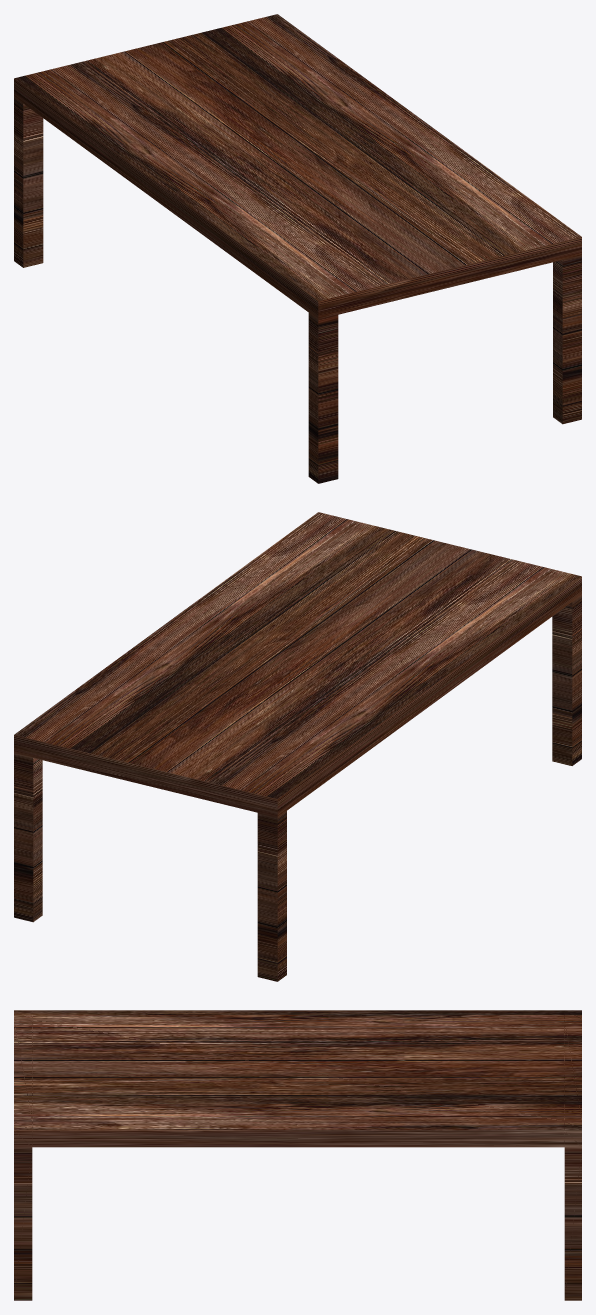
The model's file is Table.glb.
3 views of the same model, one above another, from view 1: azimuth 30°, elevation 25°; view 2: azimuth 150°, elevation 25°; view 3: azimuth 270°, elevation 25° (orthographic). The views are drawn at different scales.
Parts seen in each view (by area): view 1: Cube; view 2: Cube; view 3: Cube.
Boxes of the visible parts, x1=… form: Cube: x1=14, y1=14, x2=581, y2=483; Cube: x1=14, y1=512, x2=581, y2=981; Cube: x1=14, y1=1010, x2=581, y2=1300.
Bounding box in the file's own units: 6 × 3.97 × 12.
Materials: 1 (1 with a texture image).
